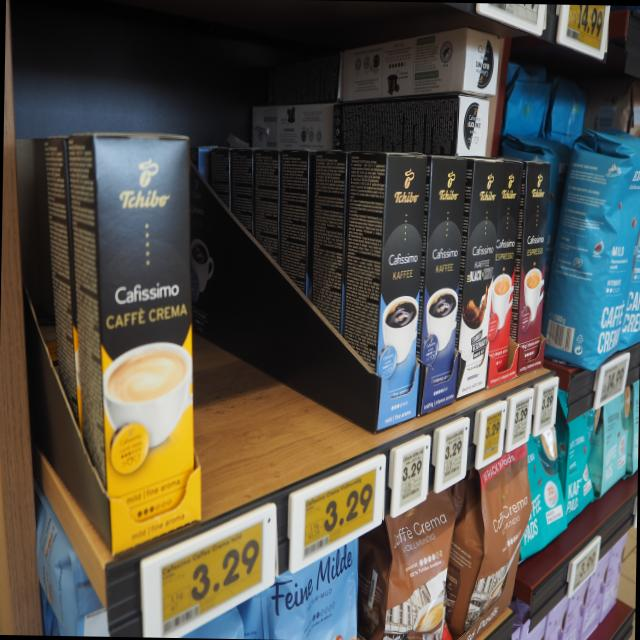CC Vollmundig: (447, 442, 536, 640), (358, 489, 461, 640)
Empty Shelf: (203, 134, 360, 499)
Simo CCMild bigpack: (87, 132, 204, 564)
Simo Es Elegant: (487, 157, 526, 388)
Simo Es Kraft: (516, 159, 551, 375)
Simo Kaffee BW: (454, 155, 504, 404)
Simo Kaffee Kraft: (420, 150, 468, 419)
Simo Kaffee Mild: (375, 150, 428, 433)
